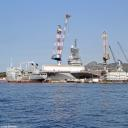Portanaves: (37, 67, 103, 83), (6, 84, 36, 90), (26, 84, 36, 86)
